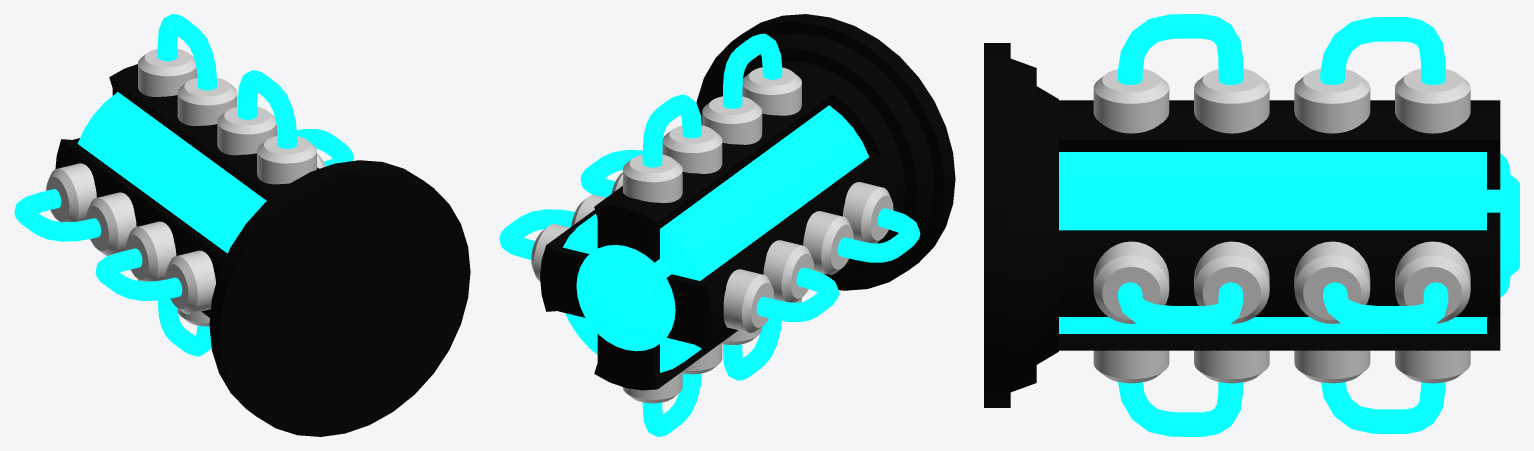
File: CashCow3.fbx
3 renders of one model, left to right at view 1: azimuth 30°, elevation 25°; view 2: azimuth 150°, elevation 25°; view 3: azimuth 270°, elevation 25°, orthographic. The views are drawn at different scales.
Visible parts, largest first — view 1: Cylinder, Cylinder.001, Cylinder.010, Cylinder.011, Cylinder.004, Plane.001, Plane.003, Plane, Plane.002; view 2: Cylinder.001, Cylinder, Cylinder.004, Cylinder.010, Cylinder.011, Plane, Plane.003, Plane.001, Plane.002; view 3: Cylinder.004, Cylinder.001, Cylinder.010, Cylinder, Cylinder.011, Plane, Plane.001, Plane.003, Plane.002.
Part boxes in pixels (x1,y1,x2,y2): Cylinder: (209, 160, 470, 436); Cylinder.001: (77, 92, 266, 253); Cylinder.010: (138, 48, 316, 326); Cylinder.011: (46, 135, 325, 314); Cylinder.004: (55, 64, 318, 317); Plane.001: (157, 14, 216, 356); Plane.003: (14, 129, 354, 241); Plane: (238, 70, 297, 148); Plane.002: (95, 248, 182, 300); Cylinder.001: (562, 105, 868, 372); Cylinder: (696, 14, 955, 290); Cylinder.004: (540, 81, 886, 390); Cylinder.010: (623, 67, 801, 403); Cylinder.011: (531, 147, 893, 332); Plane: (723, 33, 782, 380); Plane.003: (499, 209, 839, 321); Plane.001: (642, 94, 701, 436); Plane.002: (580, 150, 920, 262); Cylinder.004: (1059, 100, 1500, 350); Cylinder.001: (1059, 152, 1519, 333); Cylinder.010: (1093, 68, 1470, 383); Cylinder: (984, 43, 1058, 407); Cylinder.011: (1093, 241, 1470, 323); Plane: (1118, 14, 1243, 436); Plane.001: (1320, 17, 1445, 433); Plane.003: (1323, 282, 1448, 330); Plane.002: (1118, 282, 1243, 330).
Bounding box in the file's own units: 4206 × 4206 × 4854.
